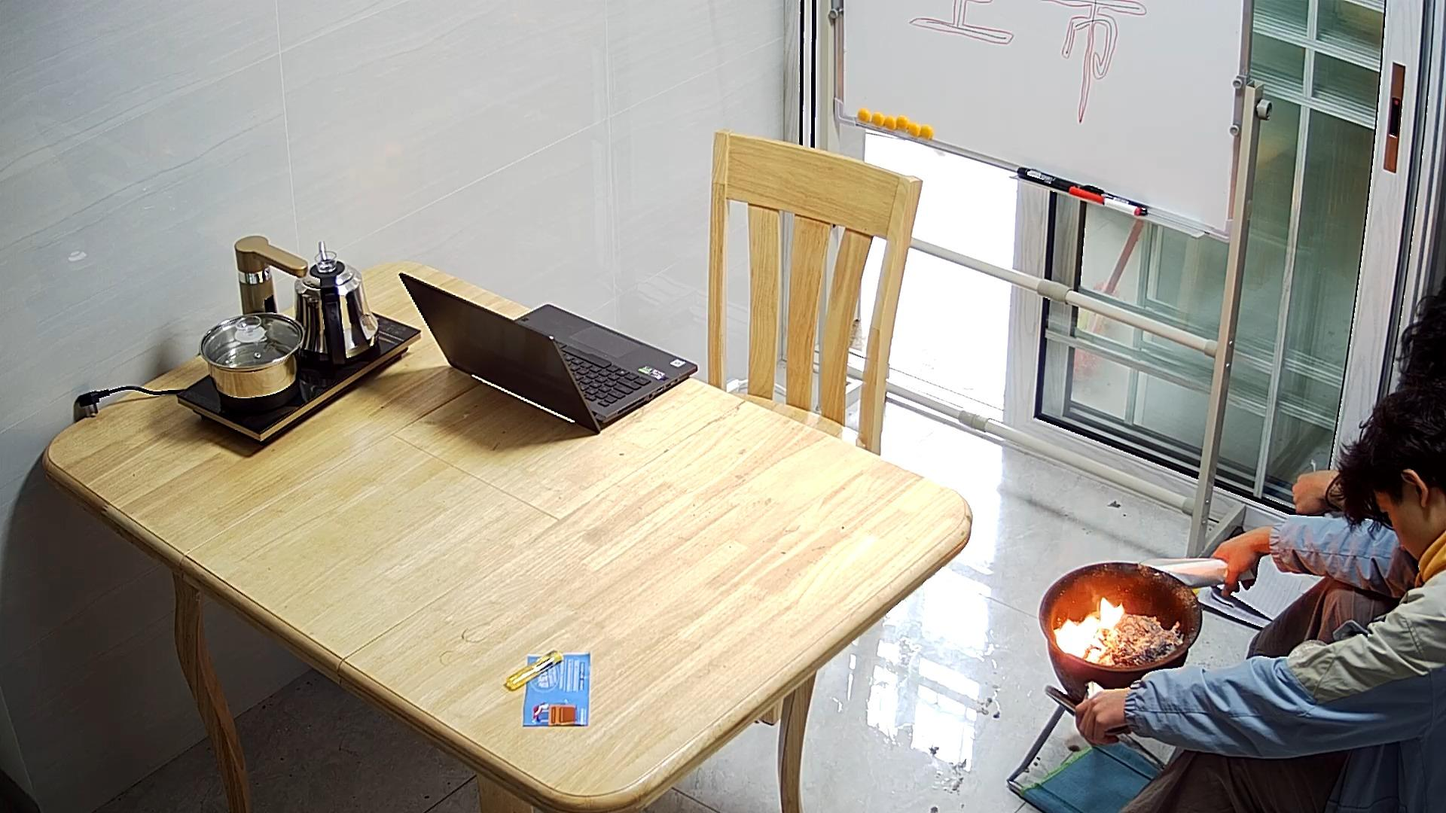fire: (1055, 614, 1104, 656), (1100, 600, 1123, 628)
